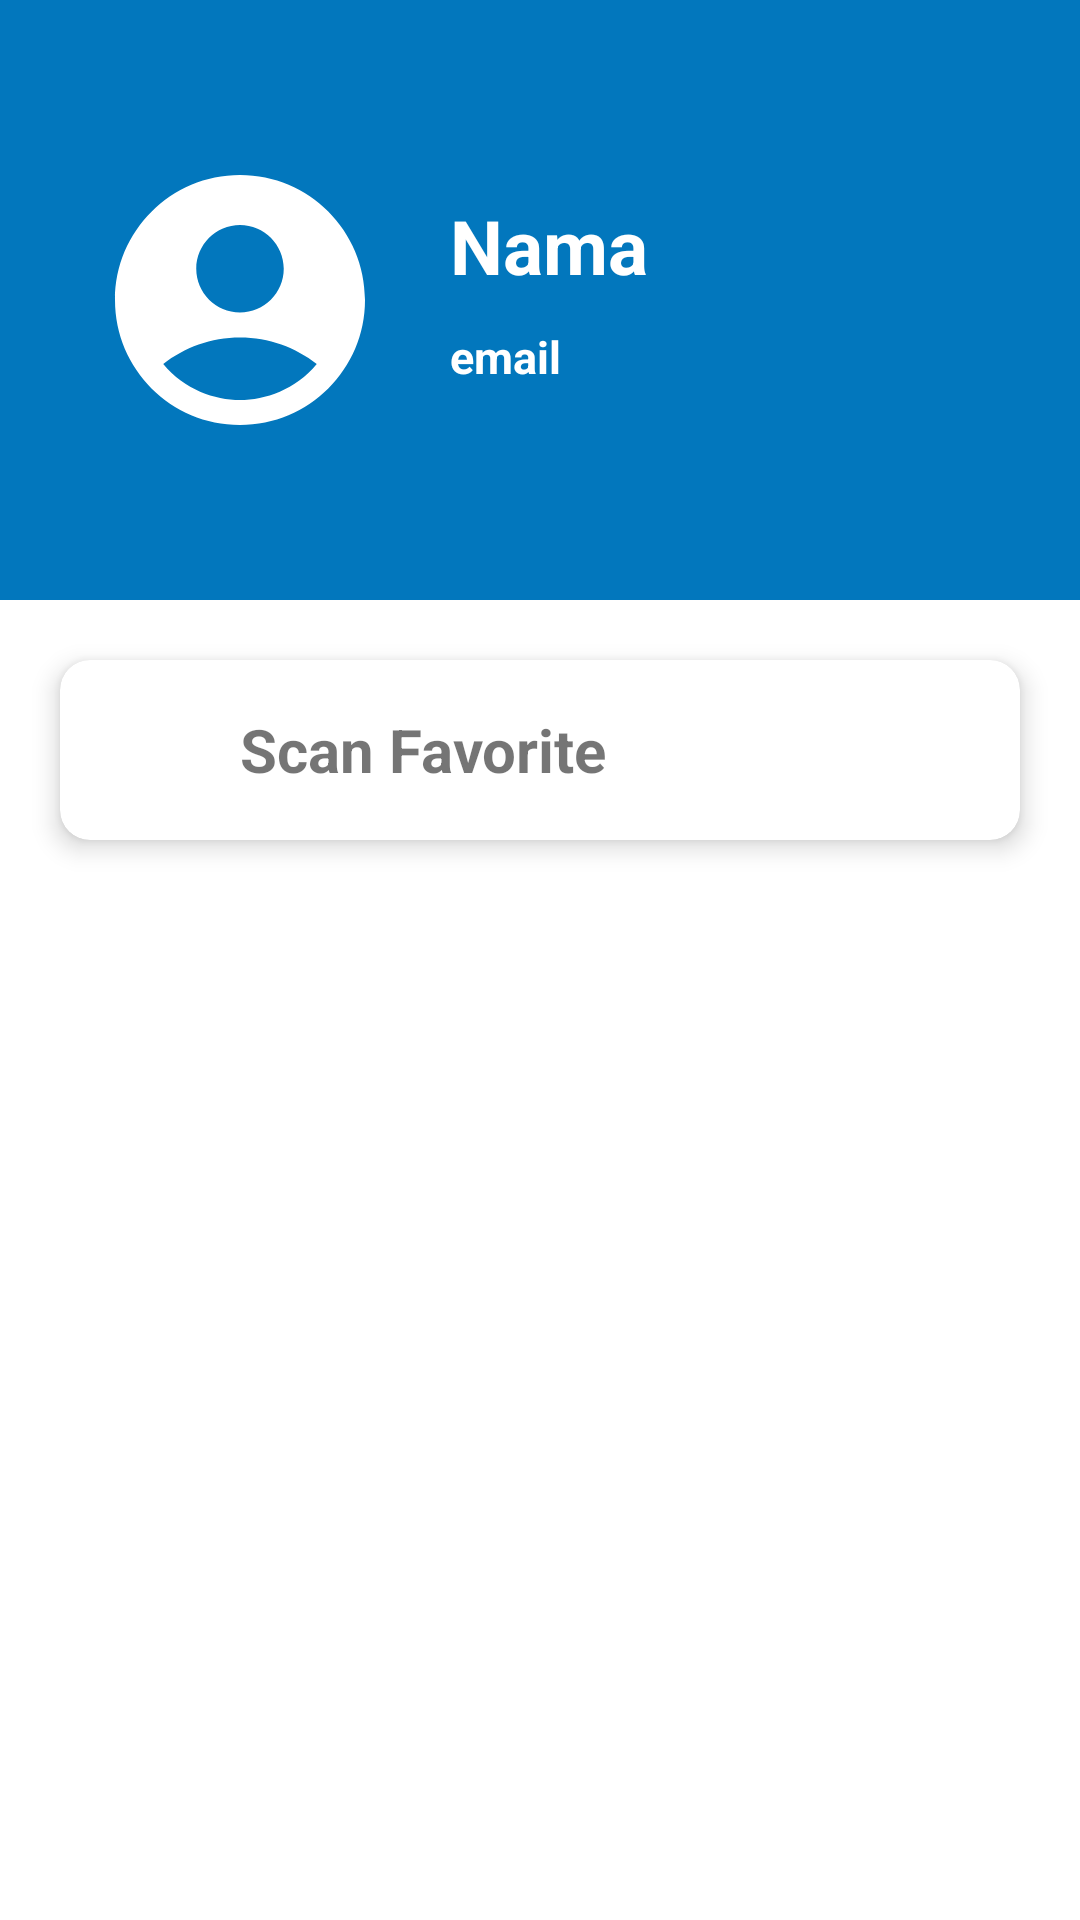

Point at icon controls on the screen. Image size 1080*1920, points as (x,y).
Avatar: (240,300)
